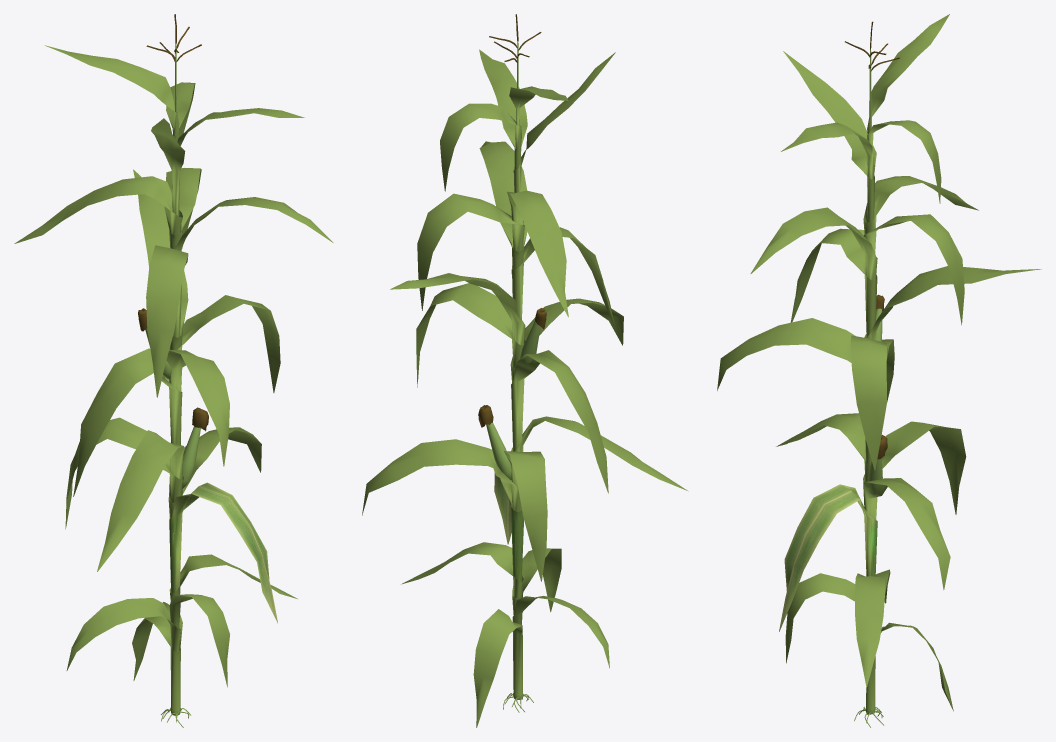
Rendered from corn.glb.
The picture shows the model from 3 angles, left to right: view 1: azimuth 30°, elevation 25°; view 2: azimuth 150°, elevation 25°; view 3: azimuth 270°, elevation 25°; orthographic projection.
Parts seen in each view (by area): view 1: Plane.012; view 2: Plane.012; view 3: Plane.012.
Boxes of the visible parts, <box> form: Plane.012: <box>14,14,333,727</box>; Plane.012: <box>362,14,688,727</box>; Plane.012: <box>717,14,1041,727</box>.
Bounding box in the file's own units: 0.4603 × 1.25 × 0.5254.
Materials: 3 (3 with a texture image).
